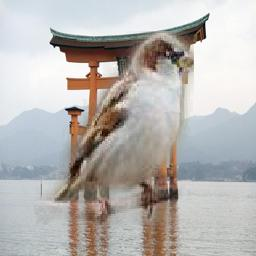Sparrow: (34, 31, 194, 225)
